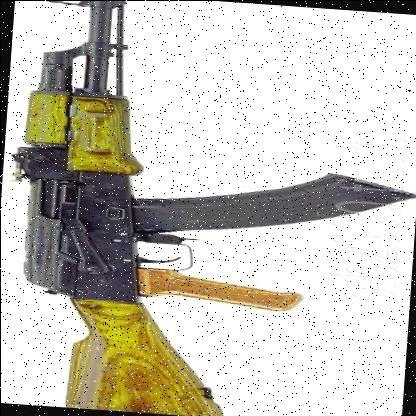rifle: (0, 0, 362, 416)
